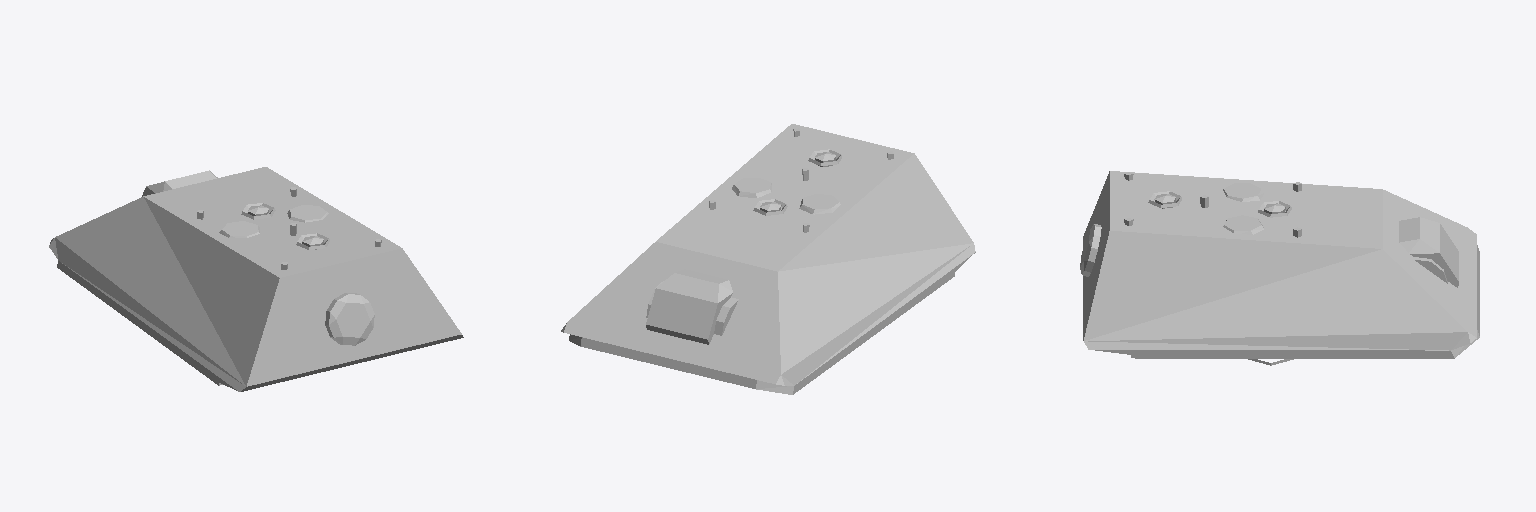
File: E-100bashnya.obj
The picture shows the model from 3 angles: view 1: azimuth 30°, elevation 25°; view 2: azimuth 150°, elevation 25°; view 3: azimuth 270°, elevation 25°; orthographic projection.
Parts seen in each view (by area): view 1: object_168_object_168.002; view 2: object_168_object_168.002; view 3: object_168_object_168.002.
Part boxes in pixels (left/top/right/bottom): object_168_object_168.002: left=49, top=167, right=463, bottom=391; object_168_object_168.002: left=561, top=124, right=975, bottom=394; object_168_object_168.002: left=1080, top=171, right=1479, bottom=365.
Size of the model in its own units: 3.14 by 1.61 by 4.85.